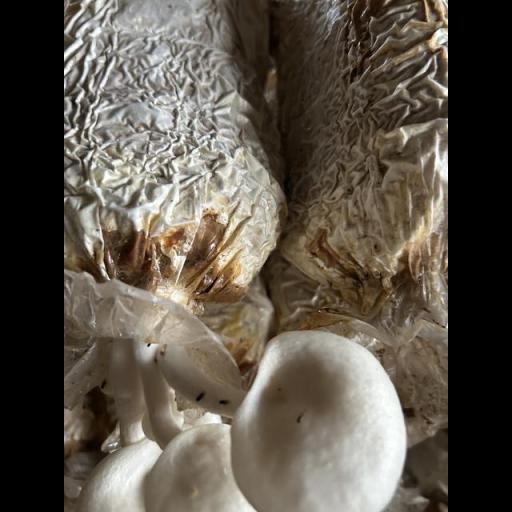White Oyster Mushroom: (66, 270, 414, 512)
